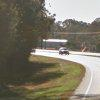Tree: (6, 0, 45, 74)
